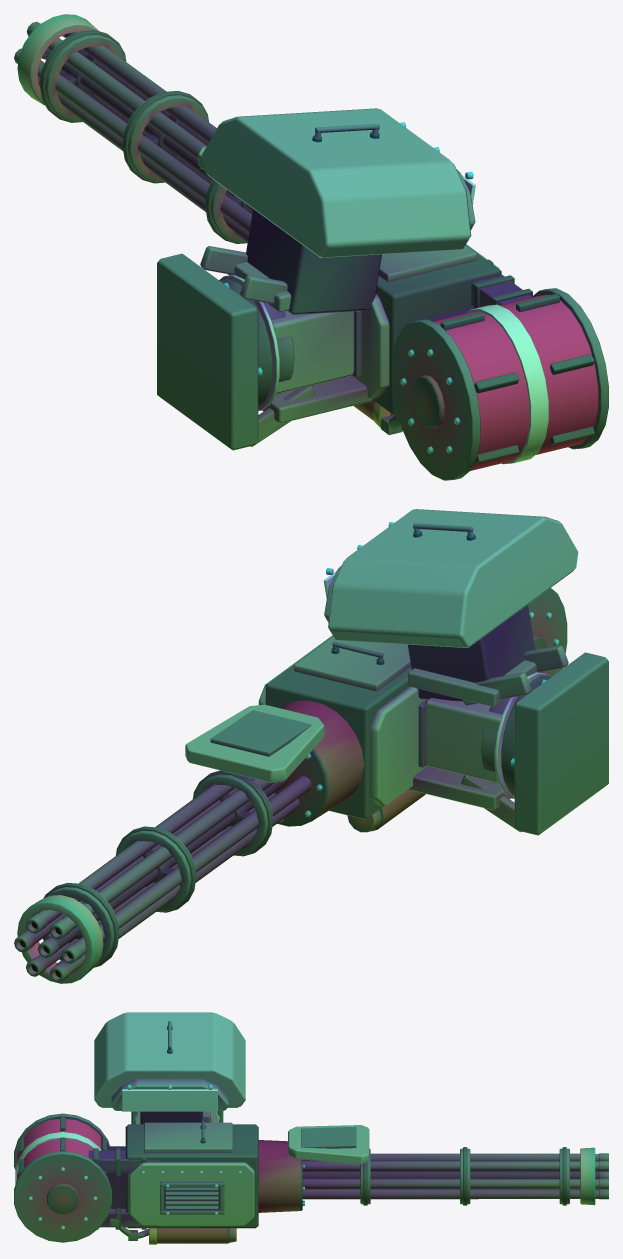
Rendered from arm_gau8.glb.
The picture shows the model from 3 angles, top to bottom: view 1: azimuth 30°, elevation 25°; view 2: azimuth 150°, elevation 25°; view 3: azimuth 270°, elevation 25°; orthographic projection. The views are drawn at different scales.
Visible parts, largest first — view 1: Body__gunmetal, Body__armor, Body__dark, Body__armor_sub, Body__hazard, Body__chrome; view 2: Body__armor, Body__gunmetal, Body__dark, Body__armor_sub, Body__chrome; view 3: Body__gunmetal, Body__armor, Body__dark, Body__armor_sub, Body__hazard, Body__chrome.
Boxes of the visible parts, <box> form: Body__gunmetal: <box>14,21,608,480</box>; Body__armor: <box>17,14,499,399</box>; Body__dark: <box>40,30,594,463</box>; Body__armor_sub: <box>200,169,598,470</box>; Body__hazard: <box>462,175,548,464</box>; Body__chrome: <box>220,122,473,453</box>; Body__armor: <box>17,509,578,983</box>; Body__gunmetal: <box>14,523,608,982</box>; Body__dark: <box>43,531,550,967</box>; Body__armor_sub: <box>294,565,568,832</box>; Body__chrome: <box>280,522,558,822</box>; Body__gunmetal: <box>14,1021,608,1242</box>; Body__armor: <box>94,1012,595,1225</box>; Body__dark: <box>18,1026,598,1243</box>; Body__armor_sub: <box>17,1079,232,1179</box>; Body__hazard: <box>15,1089,217,1184</box>; Body__chrome: <box>28,1084,304,1229</box>.
Bounding box in the file's own units: 1.08 × 1.11 × 3.22.
